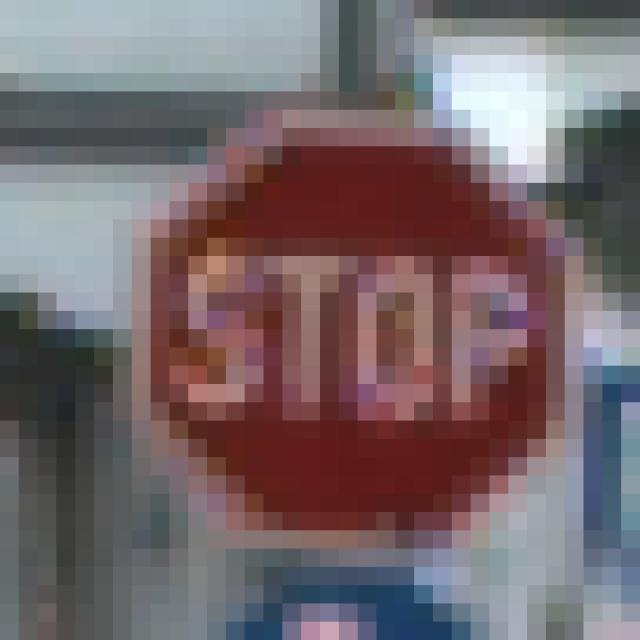STOP: (114, 93, 547, 532)
